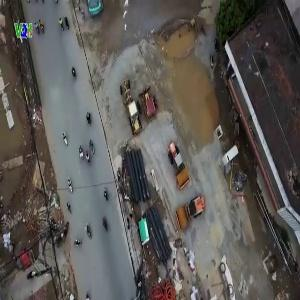drone: (219, 20, 287, 88)
